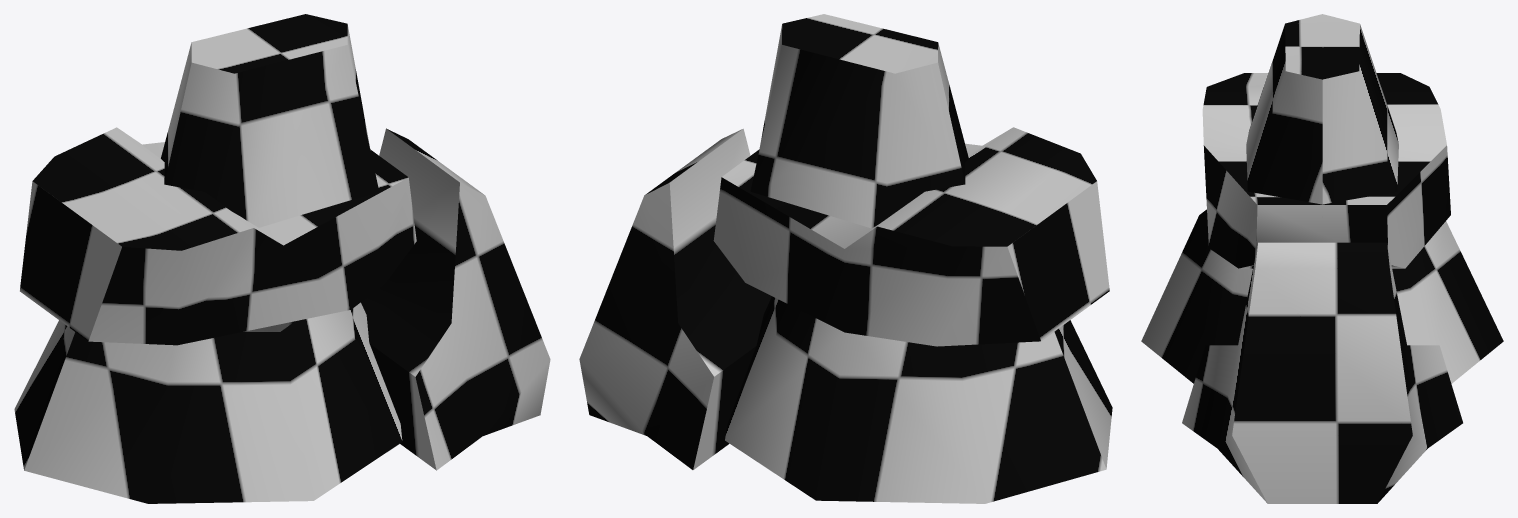
File: pl_rocket_module.obj
3 renders of one model, left to right at view 1: azimuth 30°, elevation 25°; view 2: azimuth 150°, elevation 25°; view 3: azimuth 270°, elevation 25°, orthographic. The views are drawn at different scales.
Parts seen in each view (by area): view 1: cbs_module_rocket_pl; view 2: cbs_module_rocket_pl; view 3: cbs_module_rocket_pl.
Part boxes in pixels (left/top/right/bottom): cbs_module_rocket_pl: left=14, top=14, right=550, bottom=503; cbs_module_rocket_pl: left=579, top=14, right=1112, bottom=503; cbs_module_rocket_pl: left=1141, top=14, right=1503, bottom=503.
Size of the model in its own units: 135 by 108 by 100.
1 material, 1 textured.
